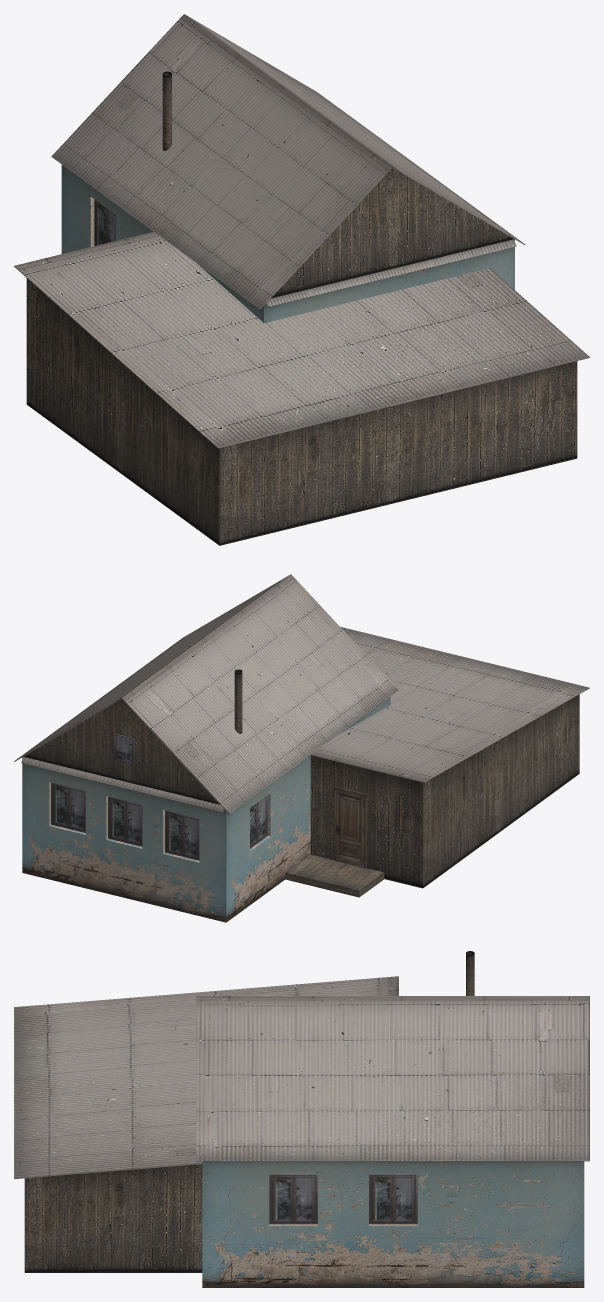
Rendered from r402_tushnolobovo_dom4.FBX.
3 renders of one model, top to bottom at view 1: azimuth 30°, elevation 25°; view 2: azimuth 150°, elevation 25°; view 3: azimuth 270°, elevation 25°, orthographic. The views are drawn at different scales.
Visible parts, largest first — view 1: r402_tushnolobovo_dom4; view 2: r402_tushnolobovo_dom4; view 3: r402_tushnolobovo_dom4.
Boxes of the visible parts, box(x1,y1,x2,y2) form: r402_tushnolobovo_dom4: box(14, 14, 589, 545); r402_tushnolobovo_dom4: box(14, 574, 589, 922); r402_tushnolobovo_dom4: box(14, 951, 589, 1287).
Size of the model in its own units: 1038 by 1357 by 625.
